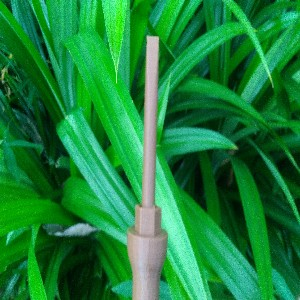obeng: (126, 35, 169, 300)
